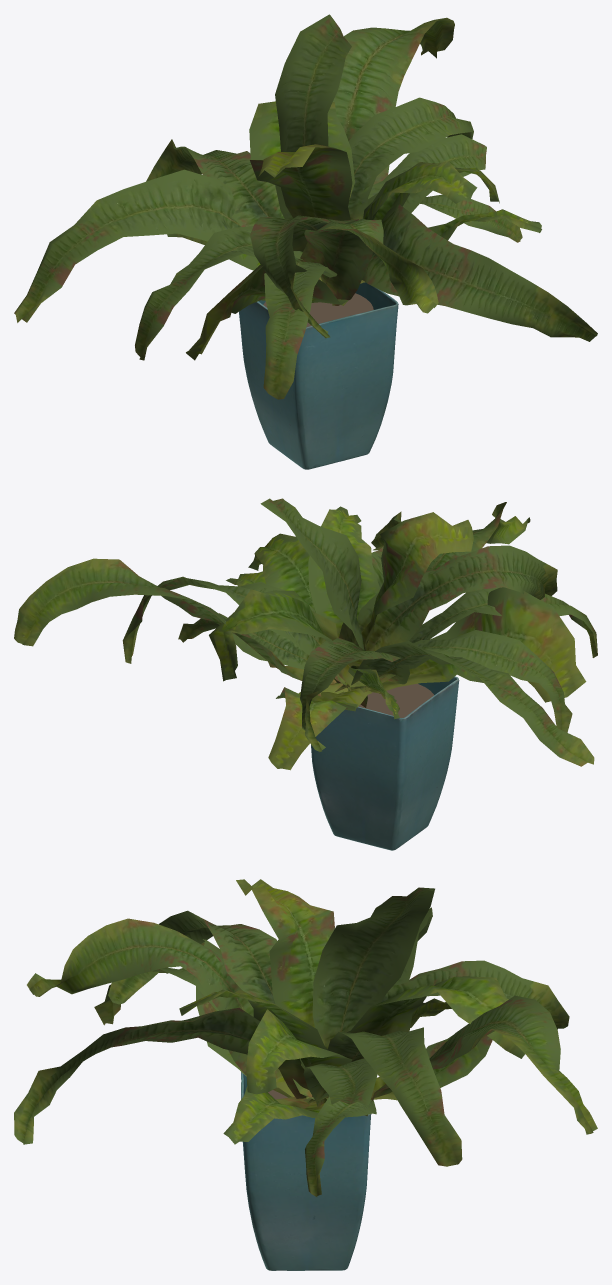
File: ph-fern.glb
3 views of the same model, one above another, from view 1: azimuth 30°, elevation 25°; view 2: azimuth 150°, elevation 25°; view 3: azimuth 270°, elevation 25° (orthographic). The views are drawn at different scales.
Visible parts, largest first — view 1: fern_02_b, Ecoforms_Plant_Container_Quadra_Turquoise_QP12, soil; view 2: fern_02_b, Ecoforms_Plant_Container_Quadra_Turquoise_QP12, soil; view 3: fern_02_b, Ecoforms_Plant_Container_Quadra_Turquoise_QP12.
Boxes of the visible parts, bbox=[...] form: fern_02_b: bbox=[14, 14, 597, 399]; Ecoforms_Plant_Container_Quadra_Turquoise_QP12: bbox=[239, 282, 398, 469]; soil: bbox=[263, 293, 373, 326]; fern_02_b: bbox=[14, 498, 597, 770]; Ecoforms_Plant_Container_Quadra_Turquoise_QP12: bbox=[311, 676, 459, 850]; soil: bbox=[358, 683, 434, 717]; fern_02_b: bbox=[14, 879, 597, 1196]; Ecoforms_Plant_Container_Quadra_Turquoise_QP12: bbox=[241, 1072, 371, 1270].
Size of the model in its own units: 0.9897 by 0.6804 by 0.8937.
Materials: 3 (2 with a texture image).
